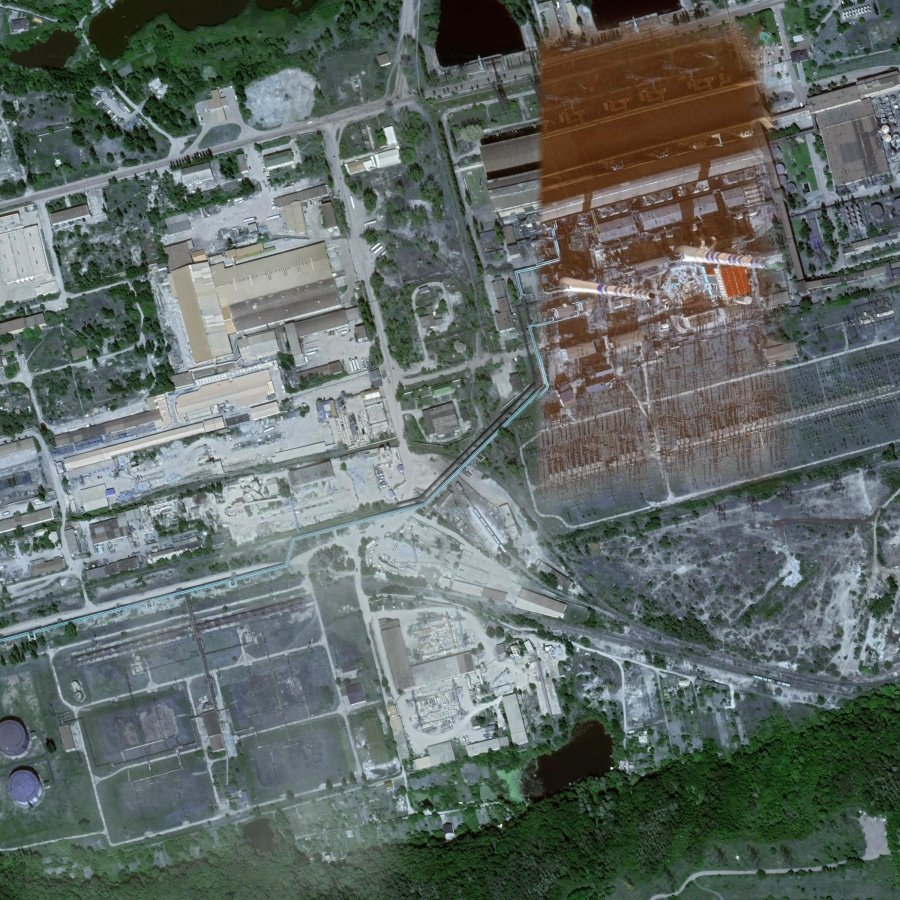PowerPlant: (504, 118, 844, 387)
